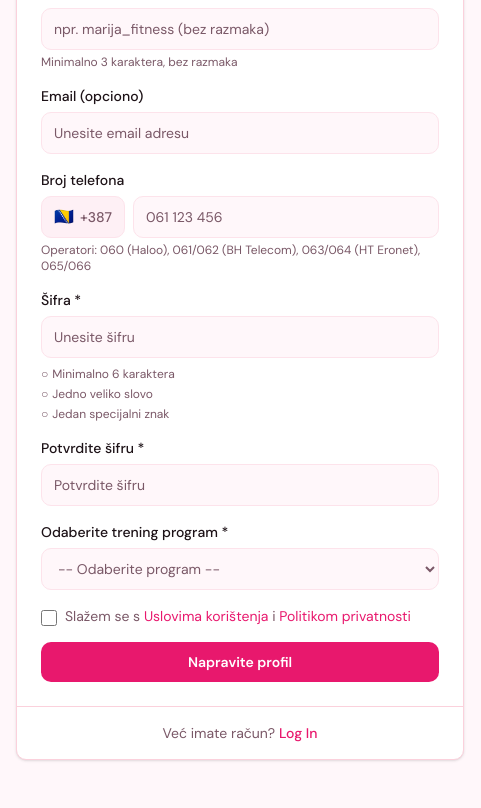
it: Register page › shows error when required fields are missing
(page scrolled)
Click the button "Napravite profil": coordinates (240, 662) x1=41 y1=642 x2=439 y2=682
(page scrolled)
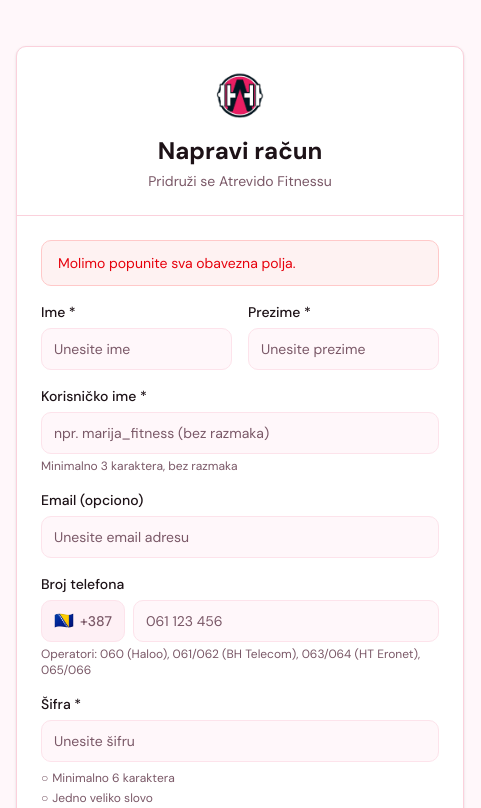
Expected: the text "Molimo popunite sva obavezna polja." is shown, x1=41 y1=240 x2=439 y2=286
